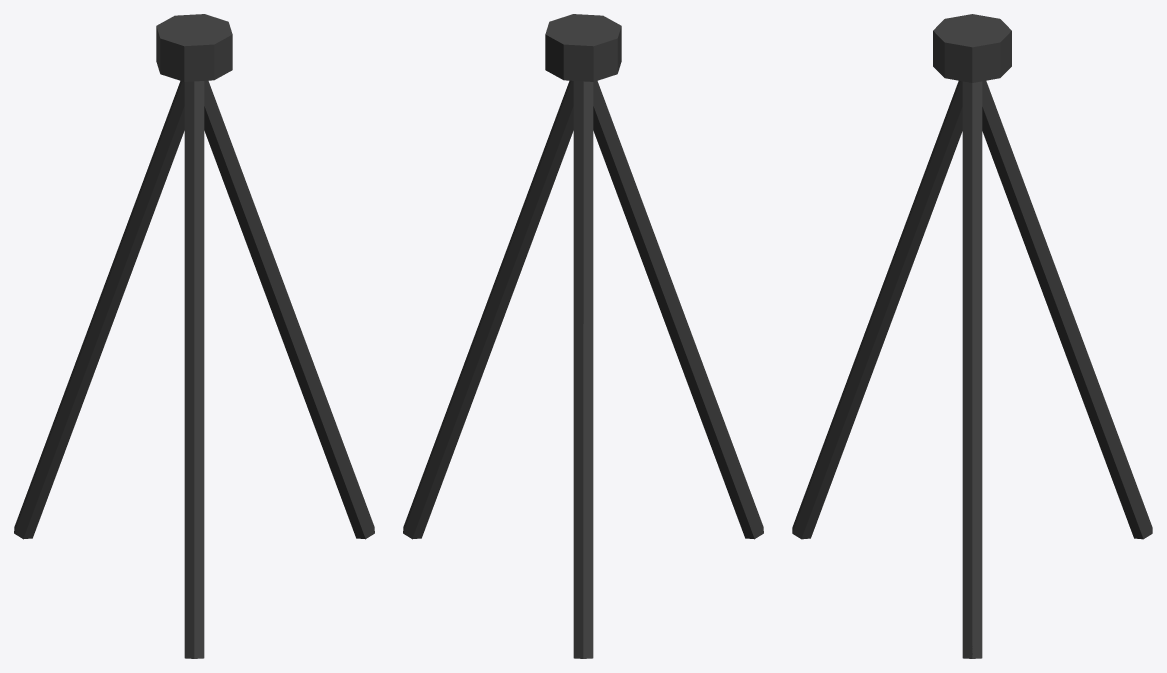
3 renders of one model, left to right at view 1: azimuth 30°, elevation 25°; view 2: azimuth 150°, elevation 25°; view 3: azimuth 270°, elevation 25°, orthographic.
Visible parts, largest first — view 1: Leg.002, Leg, Leg.001, Mount; view 2: Leg.001, Leg, Leg.002, Mount; view 3: Leg, Leg.001, Leg.002, Mount.
Boxes of the visible parts, bbox=[...] form: Leg.002: bbox=[184, 81, 204, 658]; Leg: bbox=[204, 80, 374, 539]; Leg.001: bbox=[14, 81, 184, 539]; Mount: bbox=[156, 14, 232, 81]; Leg.001: bbox=[573, 81, 593, 658]; Leg: bbox=[403, 80, 573, 539]; Leg.002: bbox=[593, 81, 763, 539]; Mount: bbox=[545, 14, 621, 81]; Leg: bbox=[962, 81, 982, 658]; Leg.001: bbox=[982, 80, 1152, 539]; Leg.002: bbox=[792, 80, 962, 539]; Mount: bbox=[933, 14, 1011, 82].
Bounding box in the file's own units: 0.5635 × 1.07 × 0.6398.
1 material, 1 textured.
